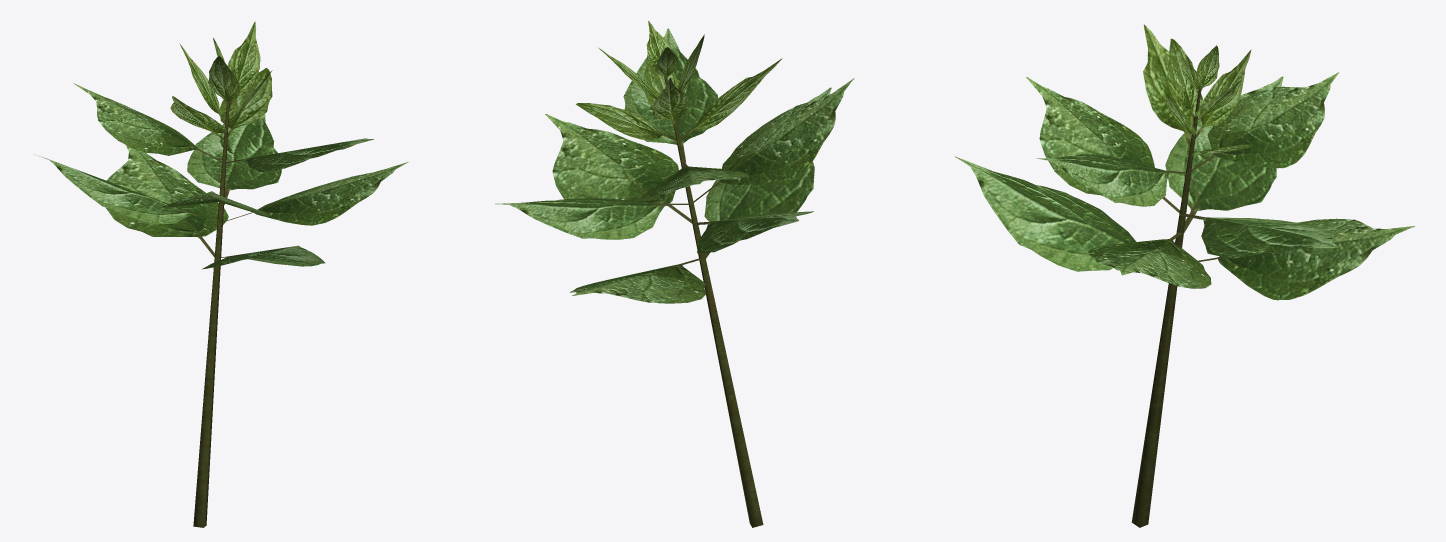
Rendered from MK4_Trop_Plant7.DAE.
3 renders of one model, left to right at view 1: azimuth 30°, elevation 25°; view 2: azimuth 150°, elevation 25°; view 3: azimuth 270°, elevation 25°, orthographic. The views are drawn at different scales.
Parts seen in each view (by area): view 1: MK4_Trop_Plant7; view 2: MK4_Trop_Plant7; view 3: MK4_Trop_Plant7.
Part boxes in pixels (box(x1,y1,x2,y2)): MK4_Trop_Plant7: box(34, 21, 408, 527); MK4_Trop_Plant7: box(495, 21, 854, 527); MK4_Trop_Plant7: box(955, 24, 1414, 527).
Size of the model in its own units: 0.8326 by 0.8941 by 1.01.
